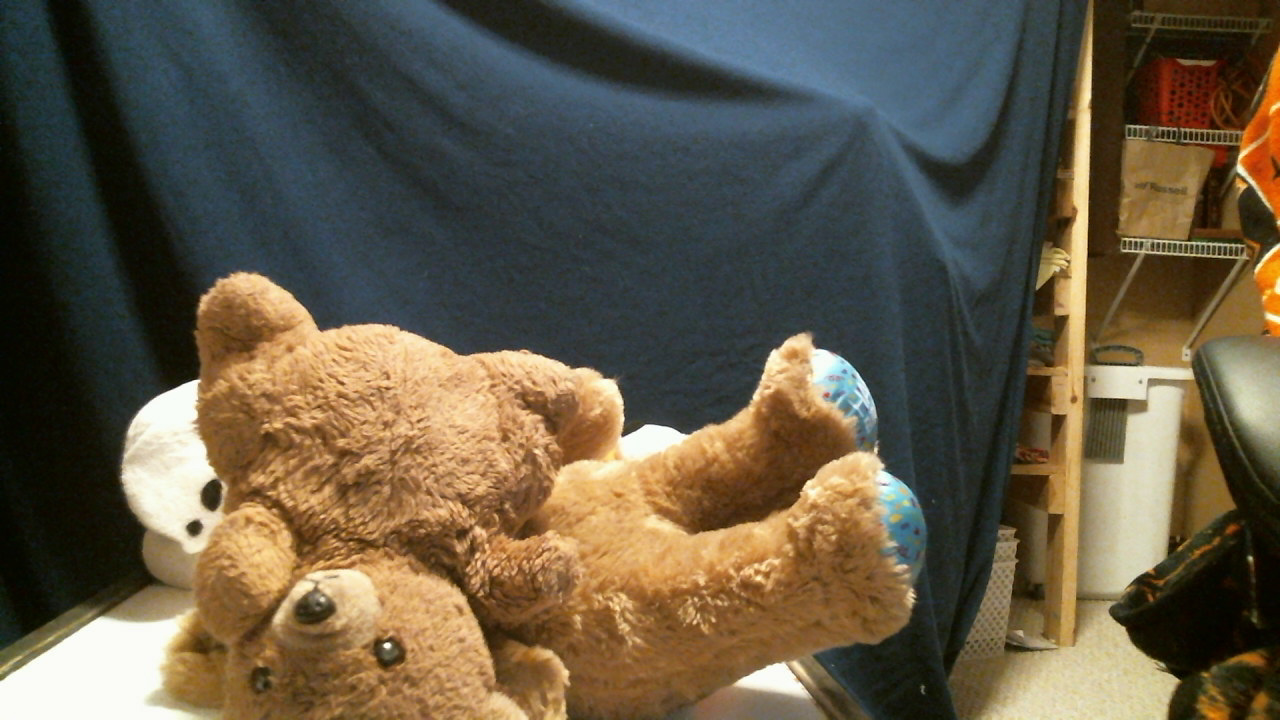Little_Mister_Bear: (246, 579, 411, 704)
